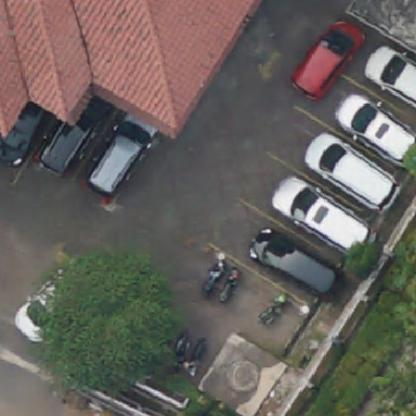Car: (275, 172, 370, 256), (314, 138, 398, 216), (254, 226, 342, 300), (86, 111, 150, 195), (292, 20, 356, 94), (352, 93, 415, 168), (13, 274, 72, 337), (39, 110, 88, 176), (370, 44, 416, 110), (5, 107, 41, 170)
Motorcycle: (260, 294, 292, 329), (197, 258, 222, 294), (166, 330, 190, 360), (186, 340, 208, 368), (221, 270, 241, 300)
